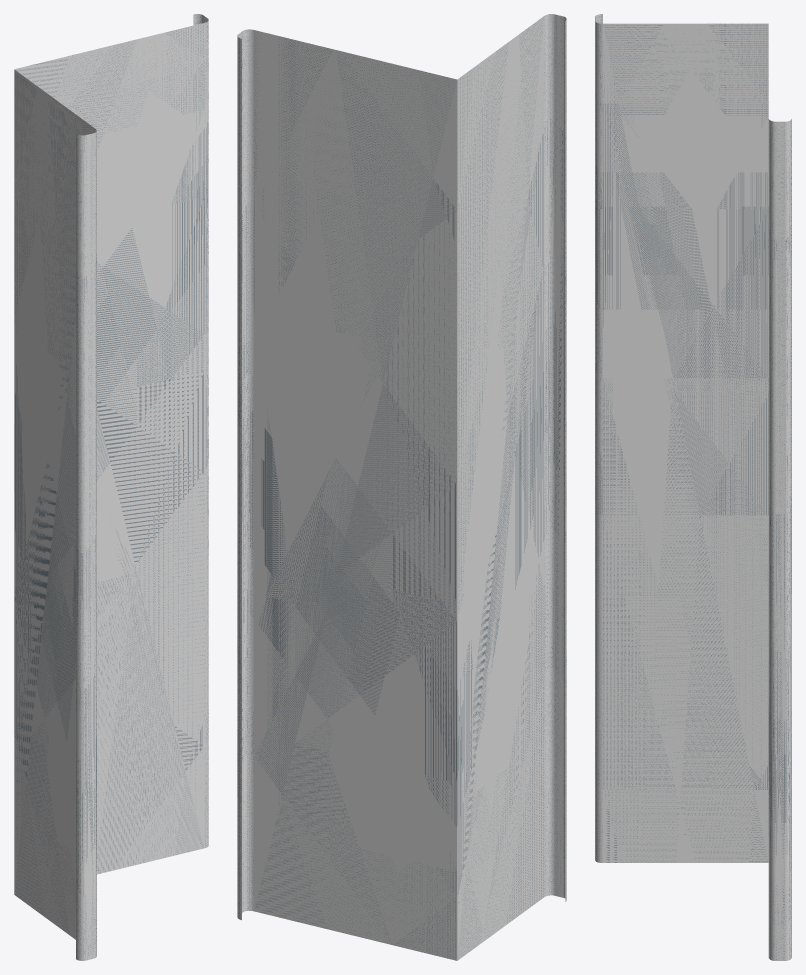
File: PW_CornerFixElem_os_T2_085x110x010x400.dae
The picture shows the model from 3 angles, left to right: view 1: azimuth 30°, elevation 25°; view 2: azimuth 150°, elevation 25°; view 3: azimuth 270°, elevation 25°; orthographic projection. The views are drawn at different scales.
Parts seen in each view (by area): view 1: group_0; view 2: group_0; view 3: group_0.
Boxes of the visible parts, x1,y1,x2,y2 form: group_0: [14, 14, 208, 960]; group_0: [237, 14, 566, 960]; group_0: [595, 14, 791, 960].
Bounding box in the file's own units: 43.31 × 33.46 × 157.
